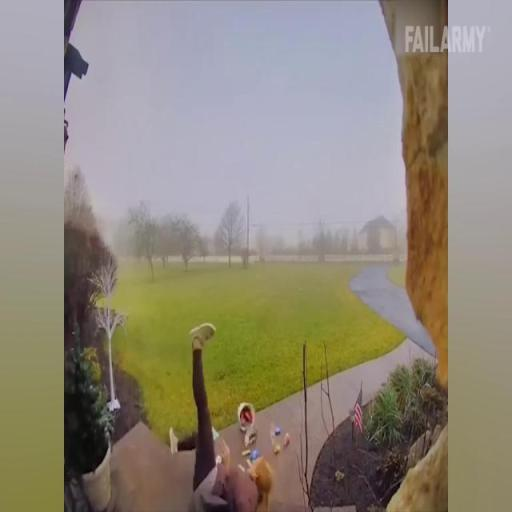Fall: (167, 319, 274, 512)
